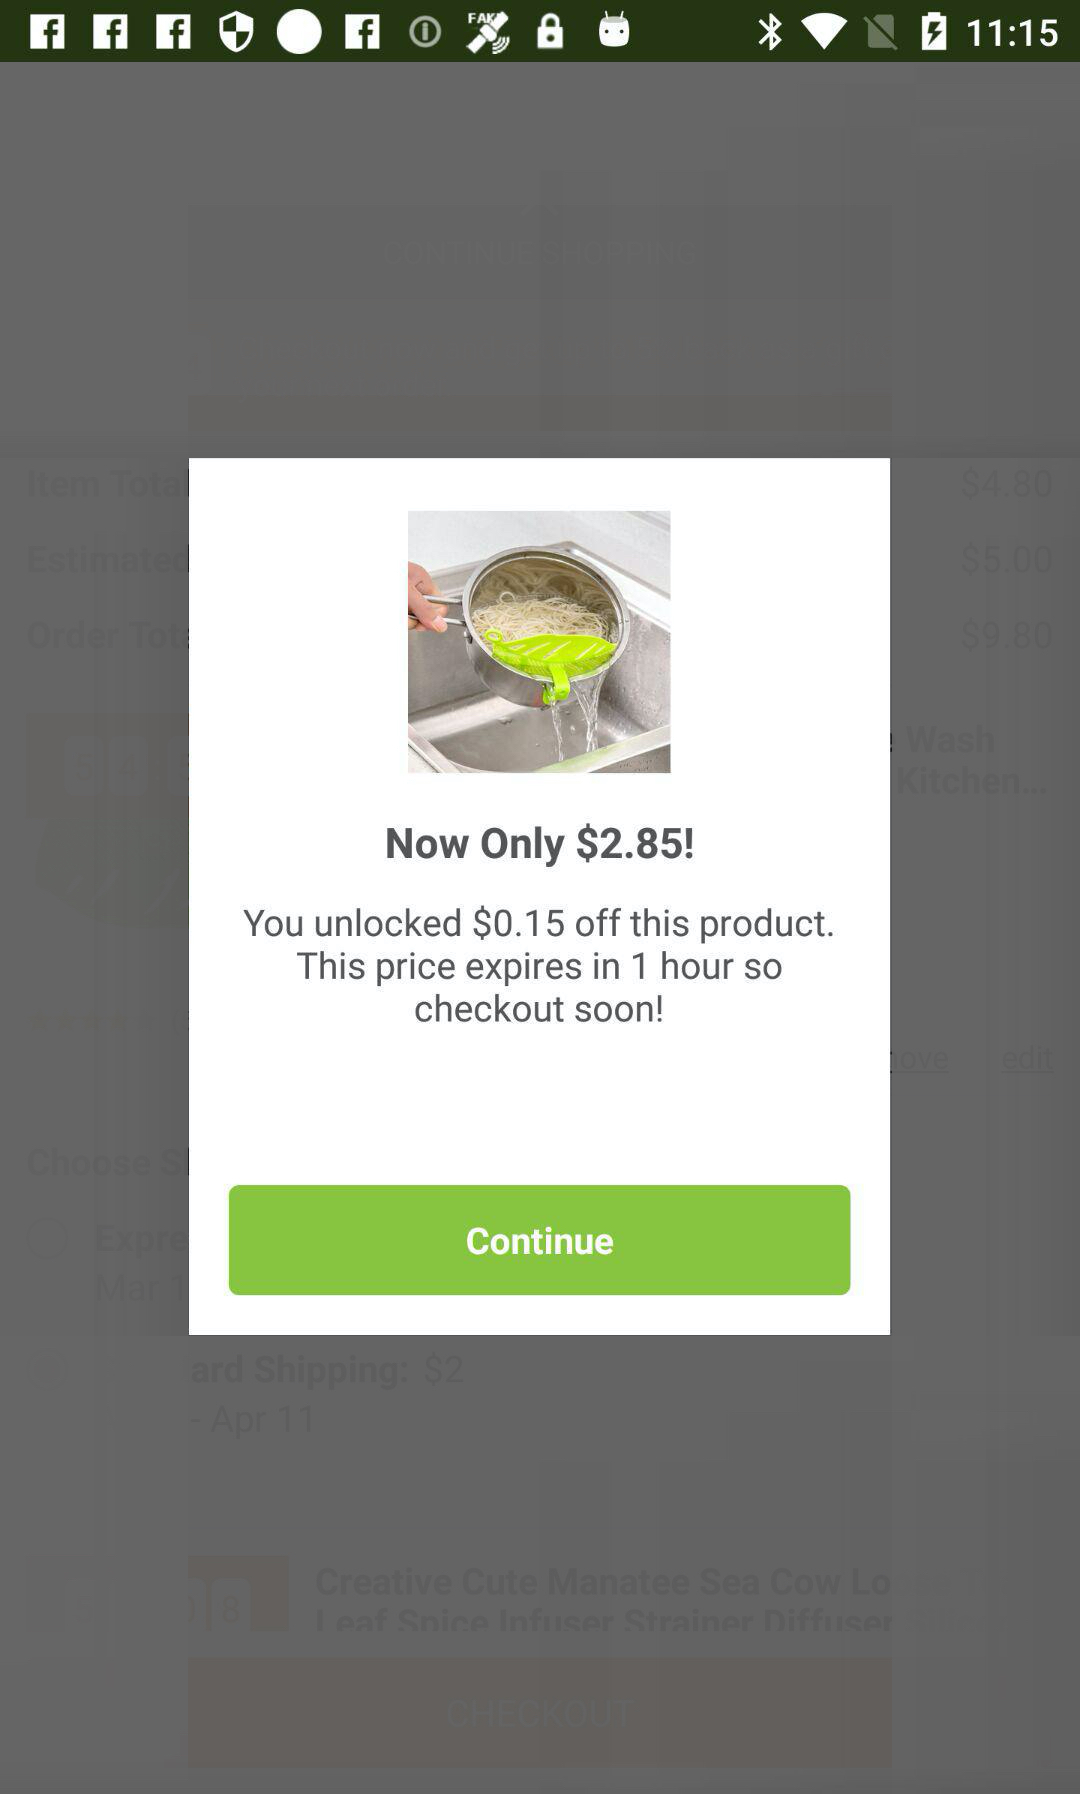Image: (407, 511, 673, 774)
Modal: (190, 457, 890, 1337)
Text: (243, 906, 834, 1025), (386, 821, 694, 869)
TextButton: (231, 1185, 851, 1296)
UpperTaskBar: (1, 1, 1080, 64)
